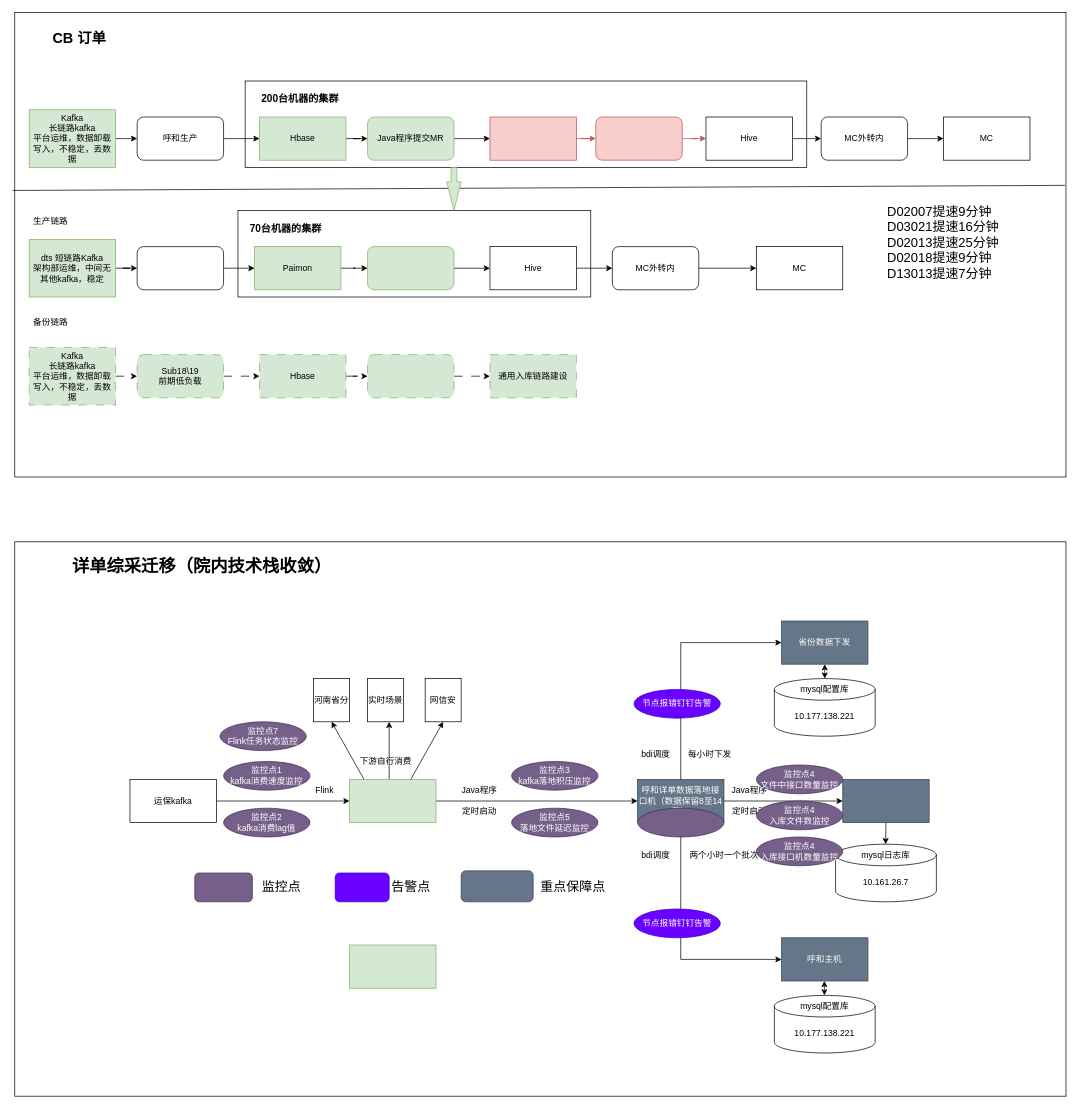
Image size: 1079x1109. Some labels were removed from this diagram. Each missing label, with the centre of its shape:
"HDFS" goes at (x=532, y=138).
"Hive提交Tez" goes at (x=410, y=268).
"Sub46" goes at (x=180, y=268).
"入Hive" goes at (x=638, y=138).
"历史详单hbase集群 （保留含当月在内7个月账期 ）" goes at (x=885, y=801).
"呼和详单kafka集群 （数据 保留两天）" goes at (x=392, y=801).
"监控点6 密码到期监控" goes at (x=680, y=822).
"详单kafka由平台组 迁移至架构部" goes at (x=392, y=966).
"通用导出链路建设" goes at (x=410, y=376).
